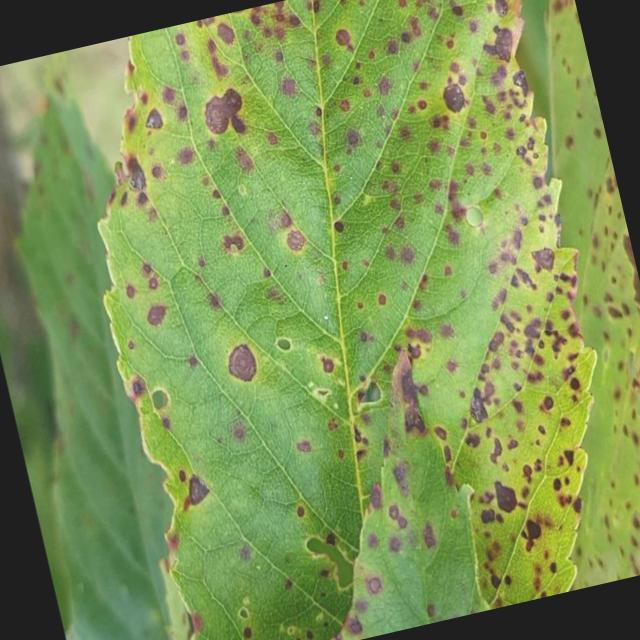leaf_spot: (100, 0, 595, 640)
